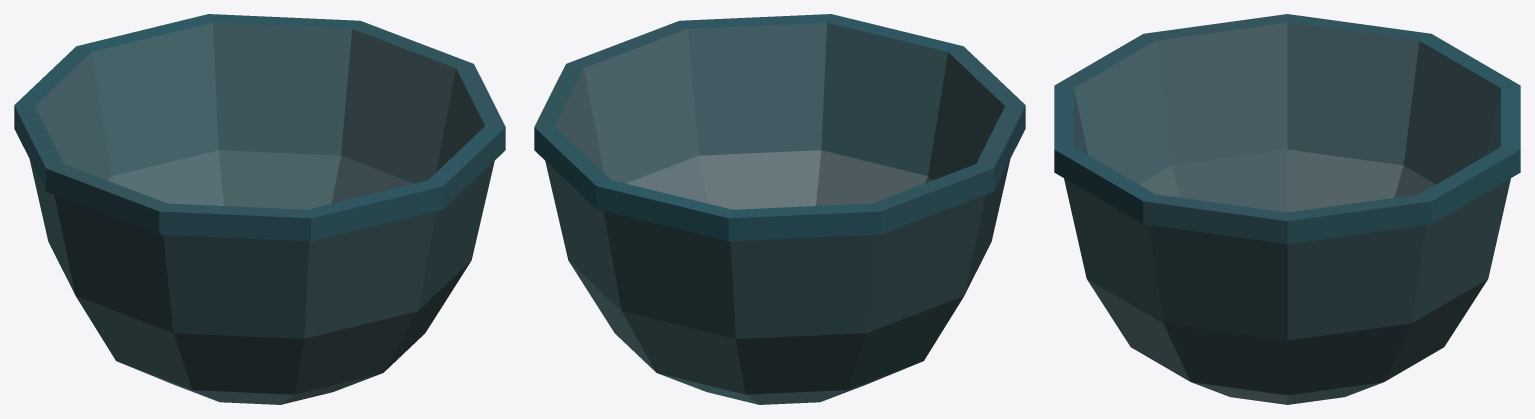
The model's file is Prop_BowlA.fbx.
3 views of the same model, side by side, from view 1: azimuth 30°, elevation 25°; view 2: azimuth 150°, elevation 25°; view 3: azimuth 270°, elevation 25° (orthographic).
Visible parts, largest first — view 1: Prop_BowlA; view 2: Prop_BowlA; view 3: Prop_BowlA.
Part boxes in pixels (<box>): Prop_BowlA: <box>14,14,505,404</box>; Prop_BowlA: <box>534,14,1025,404</box>; Prop_BowlA: <box>1054,14,1520,404</box>.
Bounding box in the file's own units: 37.14 × 20.57 × 35.33.
